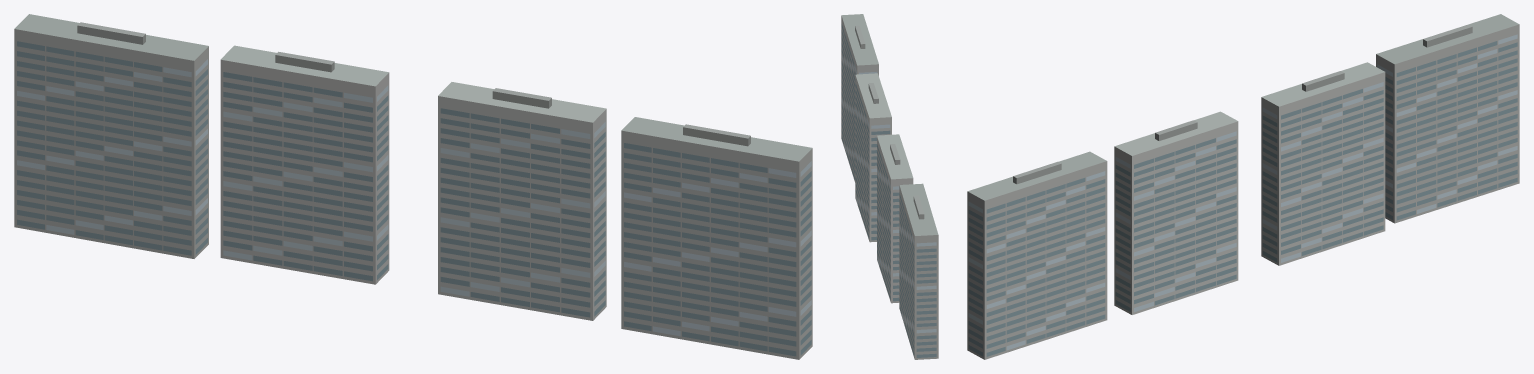
File: apt-a15081001.glb
The picture shows the model from 3 angles, left to right: view 1: azimuth 30°, elevation 25°; view 2: azimuth 150°, elevation 25°; view 3: azimuth 270°, elevation 25°; orthographic projection. The views are drawn at different scales.
Visible parts, largest first — view 1: apt-a15081001; view 2: apt-a15081001; view 3: apt-a15081001.
Boxes of the visible parts, x1,y1,x2,y2 form: apt-a15081001: (14, 14, 812, 359); apt-a15081001: (841, 14, 938, 359); apt-a15081001: (967, 14, 1519, 359).
Bounding box in the file's own units: 154 × 63.4 × 192.
